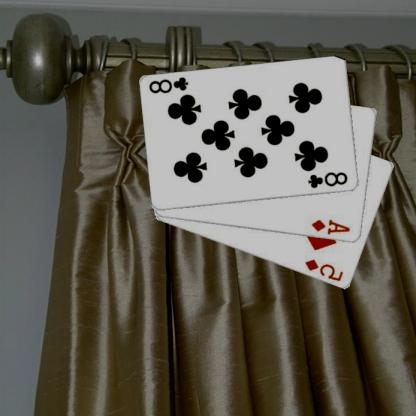5D: (304, 256, 347, 283)
8C: (148, 74, 192, 95), (308, 170, 350, 190)
AD: (311, 217, 353, 236)
